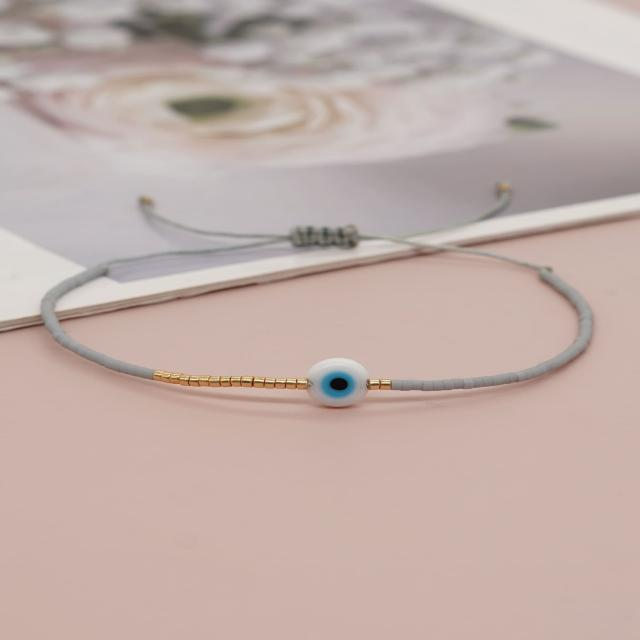bracelet: (17, 106, 640, 438)
